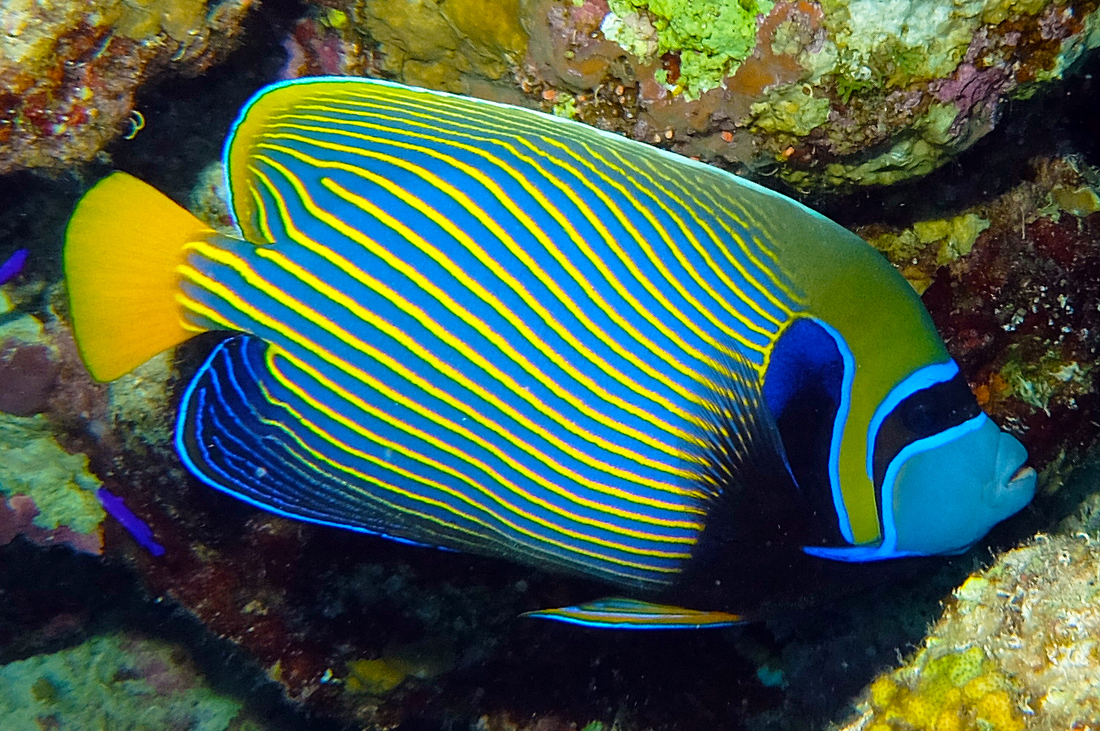Pomacanthus_imperator: (46, 47, 1057, 679)
